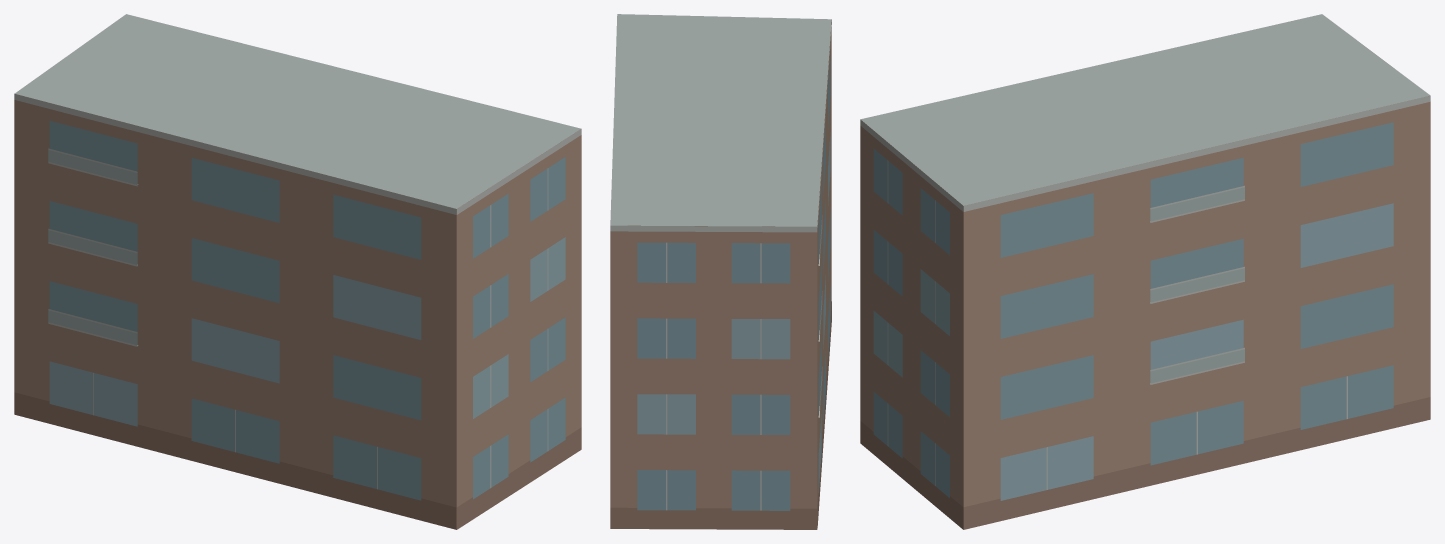
The model's file is survey-upis-32769411.glb.
3 renders of one model, left to right at view 1: azimuth 30°, elevation 25°; view 2: azimuth 150°, elevation 25°; view 3: azimuth 270°, elevation 25°, orthographic. The views are drawn at different scales.
Parts seen in each view (by area): view 1: survey-upis-32769411.tmp; view 2: survey-upis-32769411.tmp; view 3: survey-upis-32769411.tmp.
Part boxes in pixels (x1,y1,x2,y2): survey-upis-32769411.tmp: (14, 14, 581, 529); survey-upis-32769411.tmp: (610, 14, 831, 529); survey-upis-32769411.tmp: (860, 14, 1430, 529).
Bounding box in the file's own units: 16.33 × 12.85 × 20.51.
